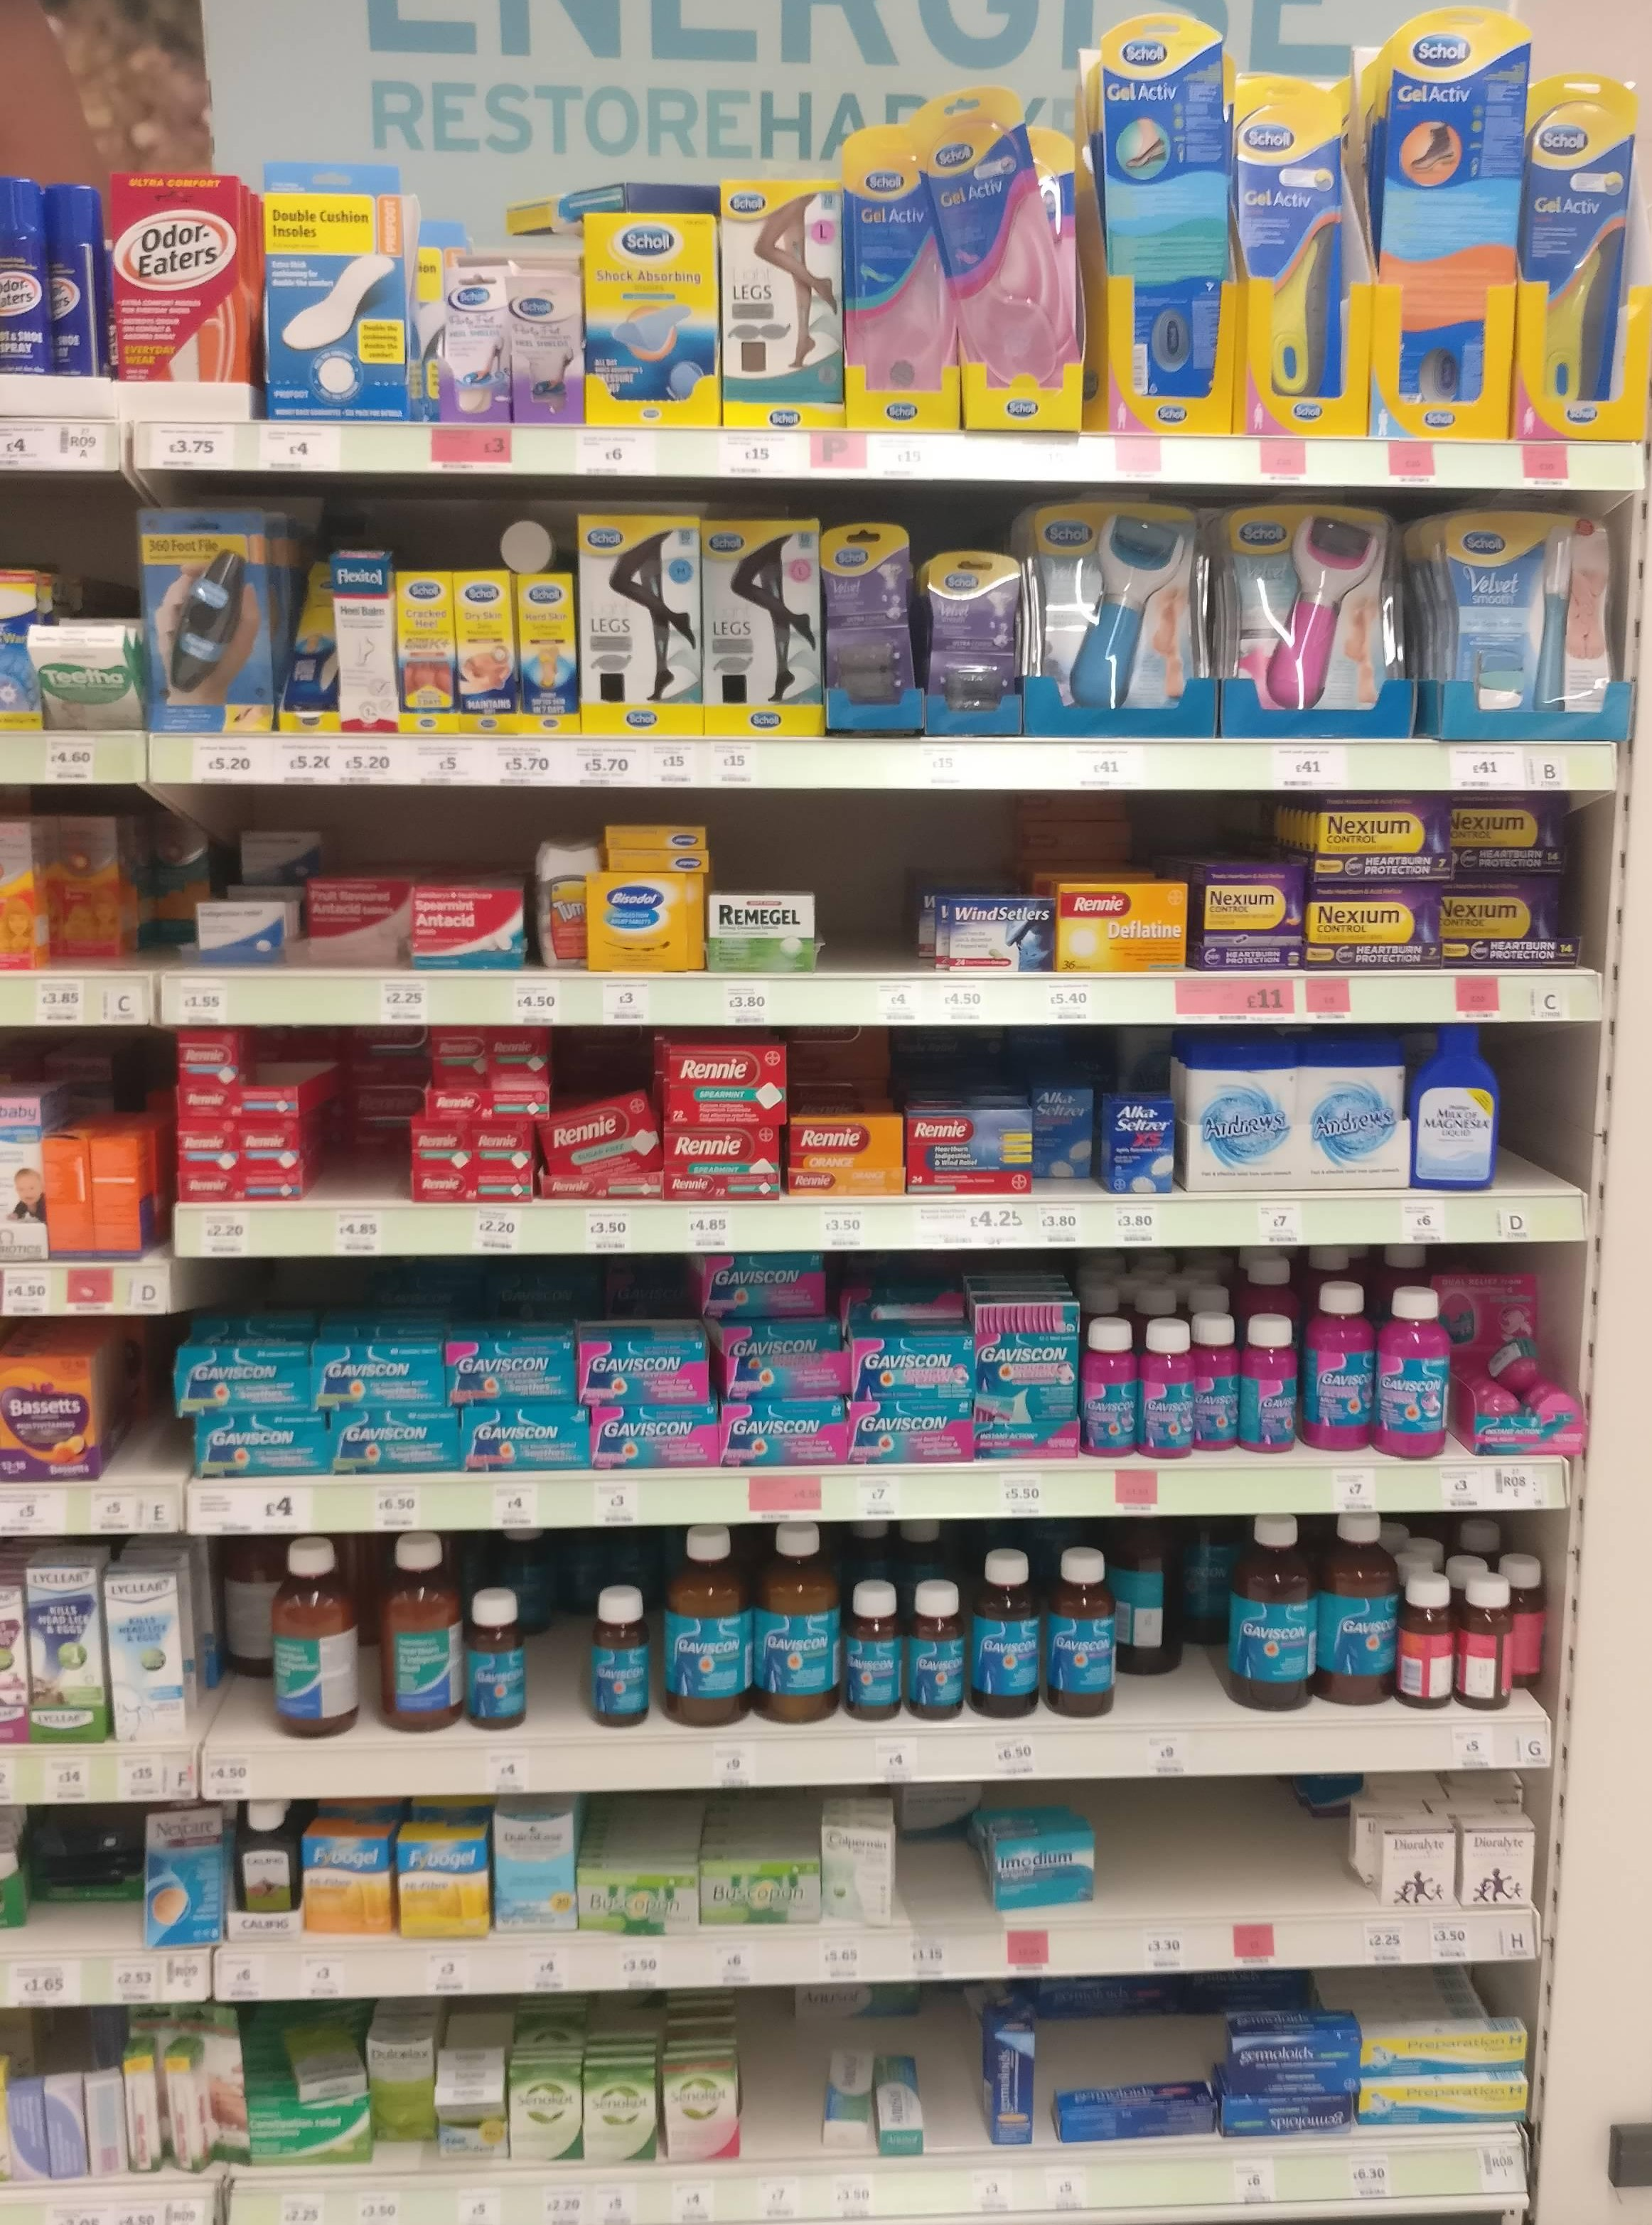empty: (1105, 1784, 1307, 1897), (1506, 1027, 1581, 1189), (823, 805, 894, 962), (743, 1999, 796, 2147), (927, 2001, 979, 2152), (118, 1328, 165, 1460)
misalignment: (522, 1534, 673, 1730), (246, 1533, 373, 1743), (908, 1789, 1097, 1916), (1116, 1533, 1229, 1715)
